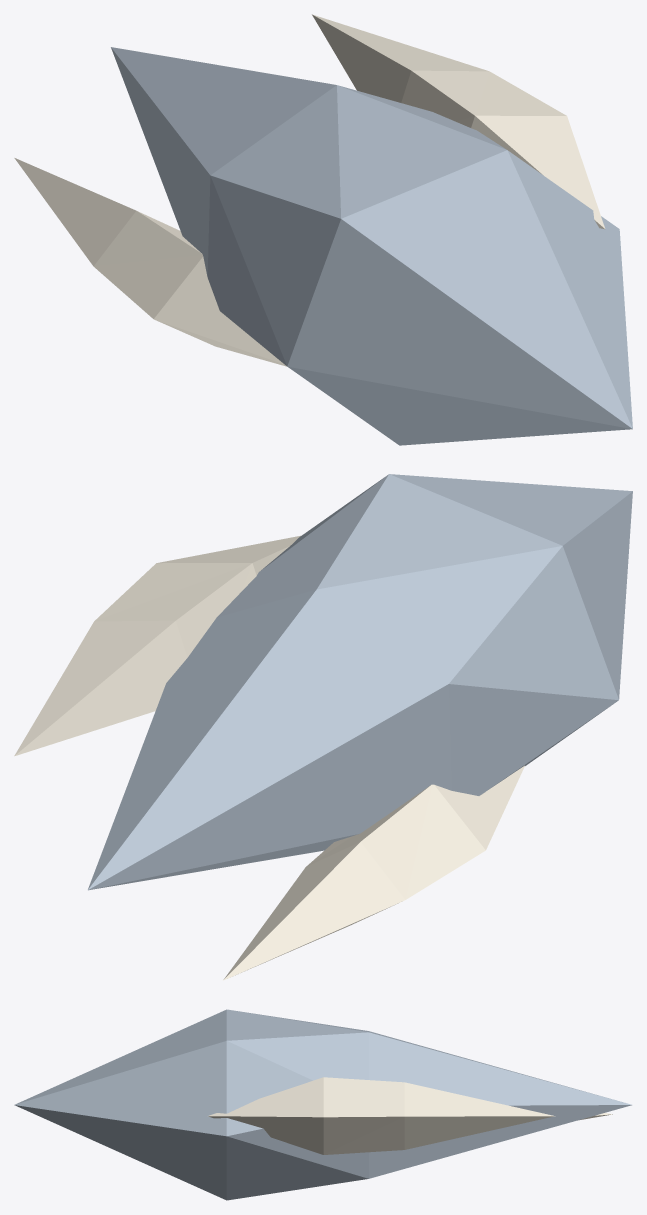
Rendered from Shot_FrostShard.fbx.
3 views of the same model, one above another, from view 1: azimuth 30°, elevation 25°; view 2: azimuth 150°, elevation 25°; view 3: azimuth 270°, elevation 25° (orthographic). The views are drawn at different scales.
Visible parts, largest first — view 1: Shard, Splinters; view 2: Shard, Splinters; view 3: Shard, Splinters.
Part boxes in pixels (box(x1,y1,x2,y2)): Shard: box(111, 47, 632, 445); Splinters: box(14, 14, 605, 366); Shard: box(88, 474, 632, 890); Splinters: box(14, 535, 524, 980); Shard: box(14, 1009, 631, 1200); Splinters: box(208, 1077, 612, 1154).
Bounding box in the file's own units: 0.6448 × 0.4551 × 1.6.
